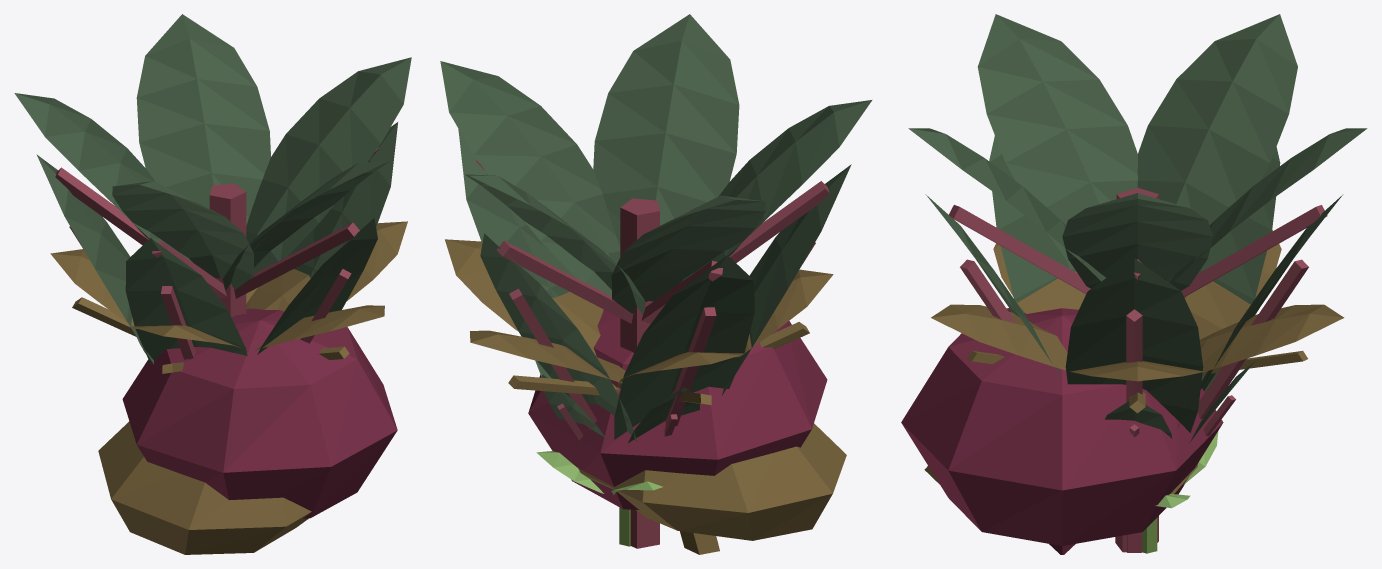
File: autumn_beet.glb
3 renders of one model, left to right at view 1: azimuth 30°, elevation 25°; view 2: azimuth 150°, elevation 25°; view 3: azimuth 270°, elevation 25°, orthographic. The views are drawn at different scales.
Visible parts, largest first — view 1: stage3, dead, stage2; view 2: stage3, stage2, dead, stage1, stage0; view 3: stage3, stage2, dead, stage1, stage0.
Boxes of the visible parts, box(x1,y1,x2,y2) form: stage3: box(14, 14, 411, 518); dead: box(50, 221, 407, 554); stage2: box(36, 122, 397, 364); stage3: box(440, 14, 872, 548); stage2: box(458, 129, 851, 442); dead: box(445, 239, 846, 554); stage1: box(535, 360, 699, 442); stage0: box(536, 451, 662, 546); stage3: box(901, 14, 1367, 554); stage2: box(925, 136, 1343, 552); dead: box(924, 230, 1344, 493); stage1: box(1105, 361, 1255, 552); stage0: box(1142, 431, 1218, 553).
Bounding box in the file's own units: 0.4342 × 0.4905 × 0.4633.
